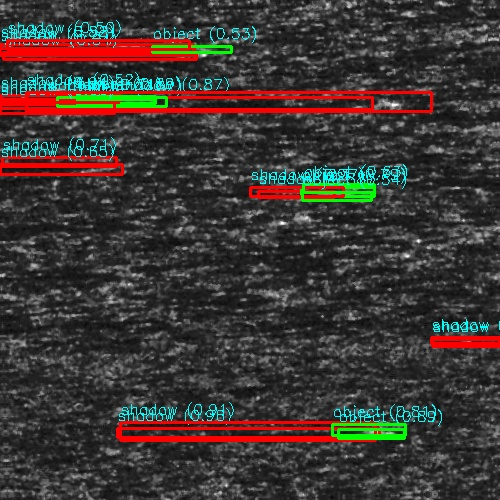rock: (44, 92, 211, 111), (91, 427, 164, 438), (124, 189, 197, 198), (341, 96, 424, 103), (356, 157, 409, 166), (270, 46, 343, 51)
shadow: (128, 92, 388, 111), (128, 427, 377, 438), (383, 157, 500, 166), (307, 46, 498, 51), (383, 96, 500, 103), (161, 189, 247, 198), (0, 337, 68, 346)
